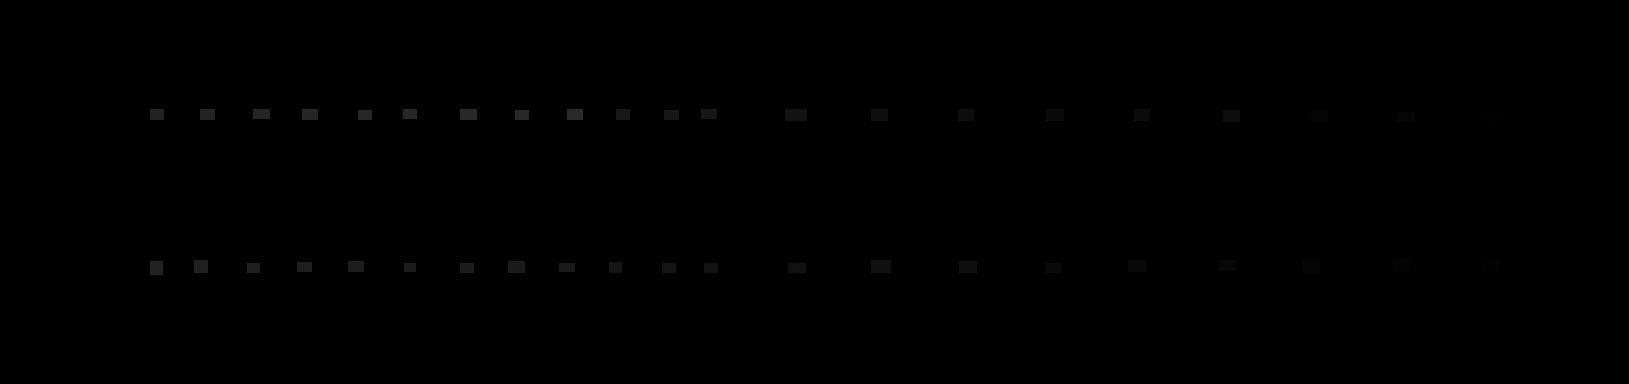light: (785, 109, 807, 121), (871, 260, 891, 273), (1302, 260, 1320, 273), (1046, 109, 1064, 121), (1223, 110, 1240, 122), (871, 109, 888, 121), (959, 260, 977, 273), (1483, 259, 1499, 272), (958, 109, 974, 121), (508, 260, 525, 273), (1128, 260, 1146, 272), (150, 260, 163, 275), (1393, 259, 1409, 272), (1134, 109, 1150, 121), (787, 263, 806, 273), (460, 109, 477, 120), (1219, 260, 1236, 271), (348, 260, 364, 272), (302, 109, 318, 120), (567, 109, 583, 120), (1484, 112, 1500, 122), (1311, 111, 1328, 121), (253, 109, 270, 119), (194, 260, 208, 273), (150, 109, 164, 120), (201, 109, 215, 120), (1397, 112, 1415, 121), (1046, 263, 1062, 273), (701, 109, 717, 119), (664, 110, 679, 120), (609, 262, 622, 273), (616, 109, 630, 120), (662, 263, 676, 273), (297, 262, 312, 272), (559, 263, 575, 272), (704, 263, 718, 273), (460, 263, 474, 273), (358, 110, 372, 120), (403, 109, 417, 119), (515, 110, 529, 120), (247, 263, 260, 273), (404, 263, 416, 272)
